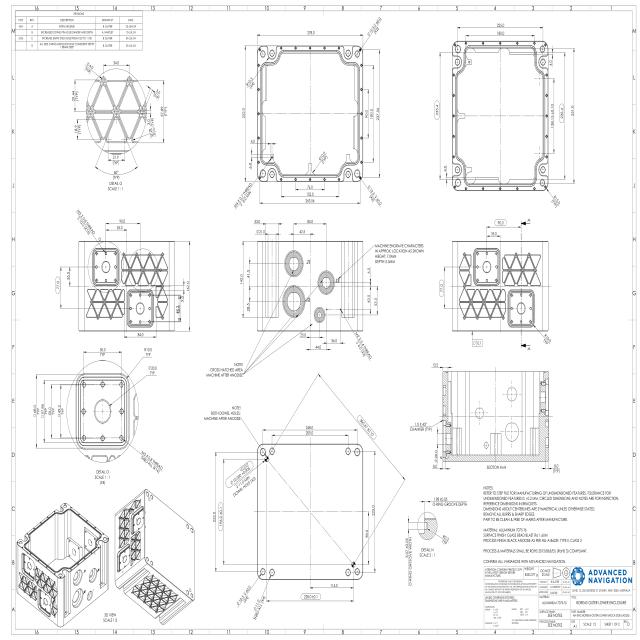dimension: (239, 44, 248, 182), (257, 27, 365, 38), (226, 458, 255, 498), (568, 47, 576, 185), (374, 49, 382, 179), (210, 450, 218, 573), (258, 198, 362, 207), (94, 161, 138, 181), (456, 21, 544, 31), (261, 424, 358, 433), (368, 64, 376, 164), (157, 78, 169, 144), (371, 449, 377, 574), (231, 180, 253, 213), (464, 29, 536, 39), (404, 514, 414, 586), (237, 239, 246, 318), (74, 207, 96, 239), (272, 430, 350, 439), (355, 412, 378, 442), (185, 239, 192, 334), (353, 329, 373, 362), (548, 77, 556, 155), (32, 373, 40, 451), (140, 450, 164, 476), (418, 495, 469, 507), (234, 584, 253, 610), (366, 183, 384, 210), (106, 142, 126, 166), (280, 192, 340, 200), (308, 581, 355, 591), (81, 346, 123, 357), (83, 60, 103, 83), (41, 379, 48, 444), (48, 384, 56, 440), (56, 384, 64, 440), (252, 594, 266, 625), (366, 15, 384, 38), (291, 218, 328, 228), (122, 330, 158, 340), (363, 88, 370, 139), (364, 509, 370, 567), (104, 218, 142, 227), (408, 420, 434, 433), (137, 127, 159, 142), (174, 294, 185, 324), (294, 183, 326, 193), (102, 60, 130, 71), (72, 79, 81, 113), (244, 72, 260, 91), (298, 330, 326, 340), (430, 361, 454, 372), (250, 138, 258, 170), (372, 285, 380, 317), (254, 218, 282, 227), (146, 103, 156, 128), (290, 228, 315, 238), (253, 228, 280, 237), (366, 286, 374, 316), (245, 289, 253, 318), (305, 344, 330, 353), (147, 85, 161, 101), (245, 259, 253, 287), (72, 118, 82, 140), (300, 591, 322, 601), (550, 192, 562, 210), (316, 150, 330, 165), (366, 263, 374, 287), (322, 338, 346, 346), (105, 225, 128, 233), (141, 345, 154, 359), (218, 501, 224, 531), (432, 446, 439, 471), (64, 266, 72, 287), (542, 332, 553, 347), (484, 230, 502, 239), (54, 275, 62, 295), (438, 278, 446, 298), (146, 364, 159, 376), (440, 532, 451, 546), (558, 103, 565, 124), (494, 218, 508, 228), (434, 98, 440, 121), (552, 462, 562, 475), (548, 52, 554, 68), (442, 163, 448, 176)
